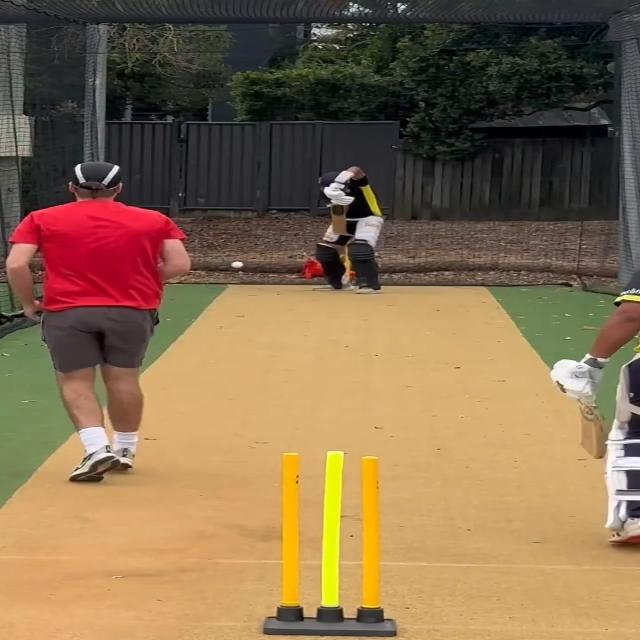ball: (231, 261, 244, 269)
stump: (260, 448, 397, 638)
